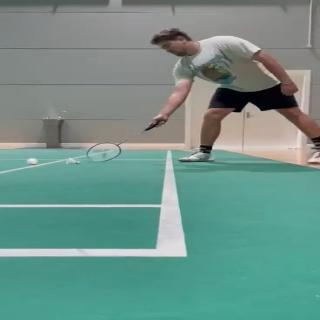Shuttle: (66, 157, 80, 164), (25, 158, 38, 165)
